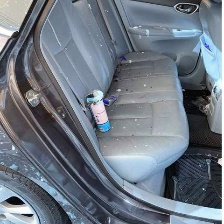aerosol_cans: (80, 88, 112, 134)
